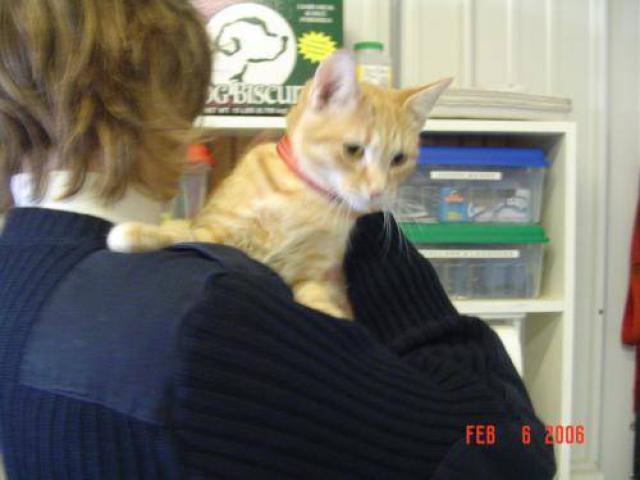cat: (128, 48, 465, 328)
